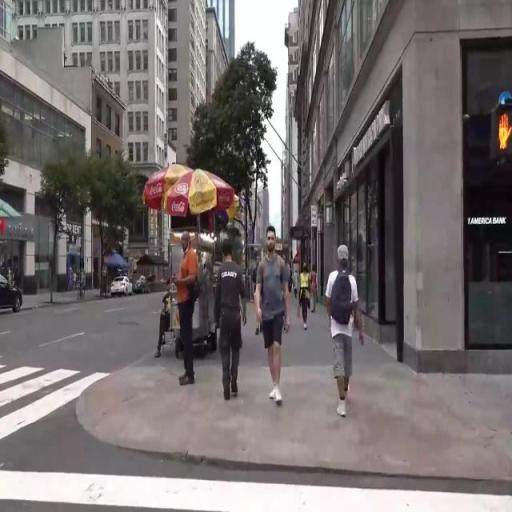person: (323, 247, 369, 430), (257, 225, 294, 411), (213, 234, 251, 406), (177, 233, 208, 400), (161, 278, 175, 367), (300, 261, 311, 335), (314, 267, 323, 325), (295, 268, 301, 303)
